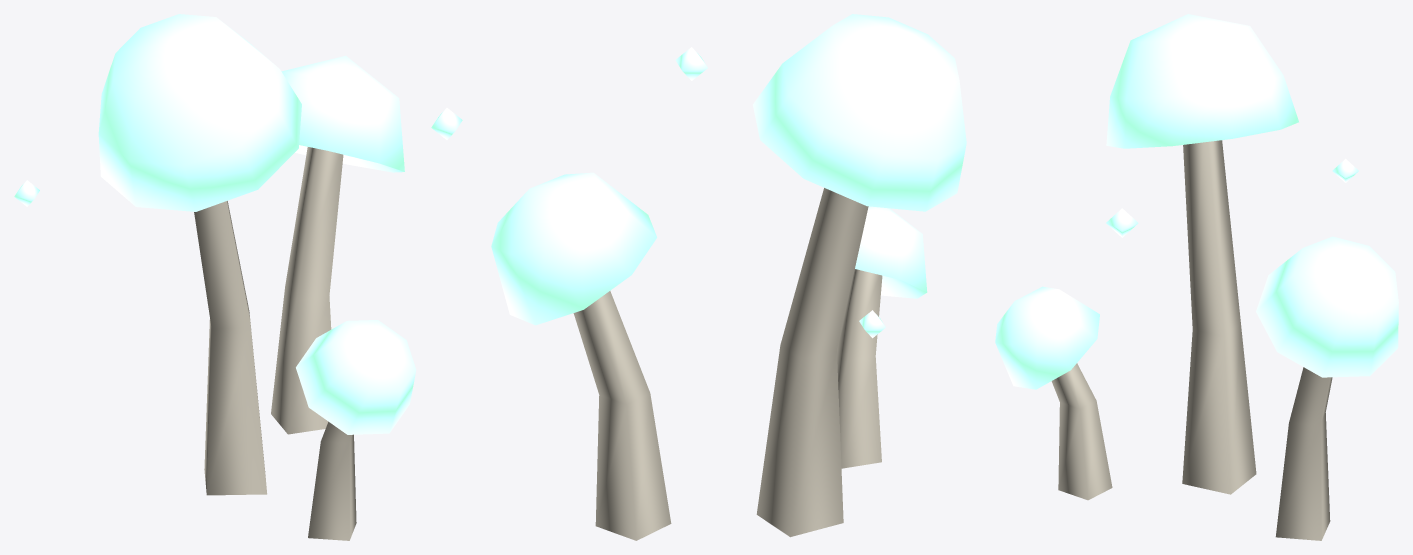
File: glow_mushroom.fbx
3 renders of one model, left to right at view 1: azimuth 30°, elevation 25°; view 2: azimuth 150°, elevation 25°; view 3: azimuth 270°, elevation 25°, orthographic. The views are drawn at different scales.
Parts seen in each view (by area): view 1: glow_mushroom; view 2: glow_mushroom; view 3: glow_mushroom.
Boxes of the visible parts, x1=… form: glow_mushroom: x1=14, y1=14, x2=462, y2=540; glow_mushroom: x1=491, y1=14, x2=966, y2=540; glow_mushroom: x1=995, y1=14, x2=1398, y2=540.
Size of the model in its own units: 0.4039 by 0.4902 by 0.4156.
